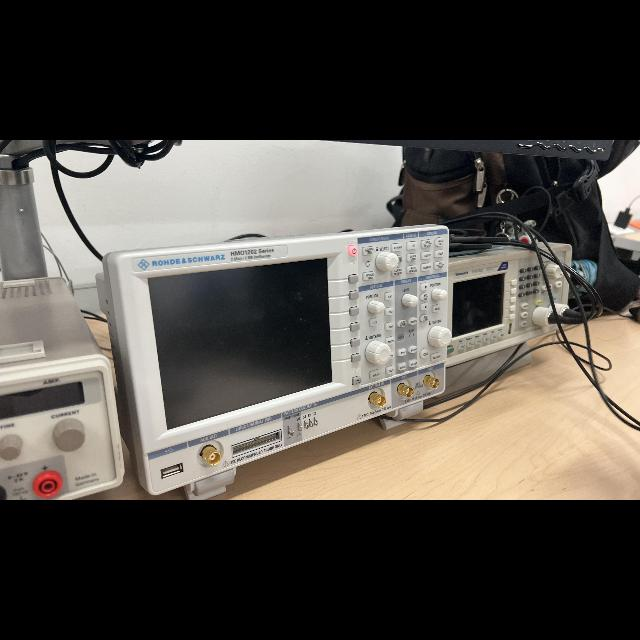Digital-Oscilloscope: (96, 225, 451, 499)
